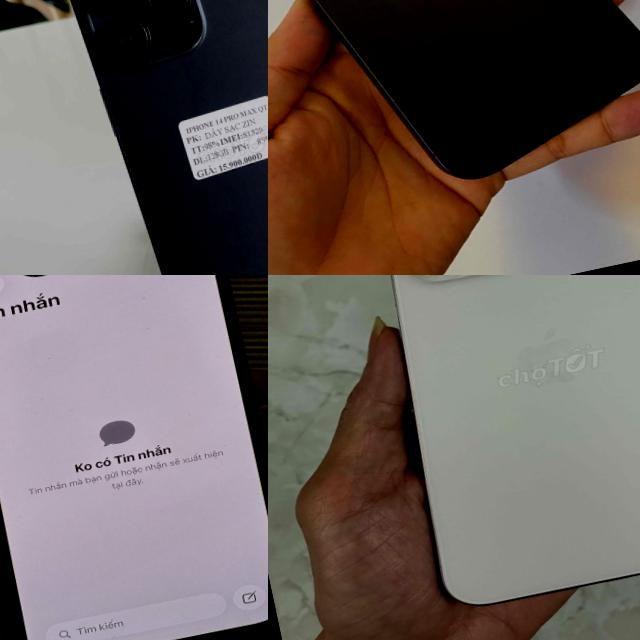screen_defect: (0, 275, 95, 294)
